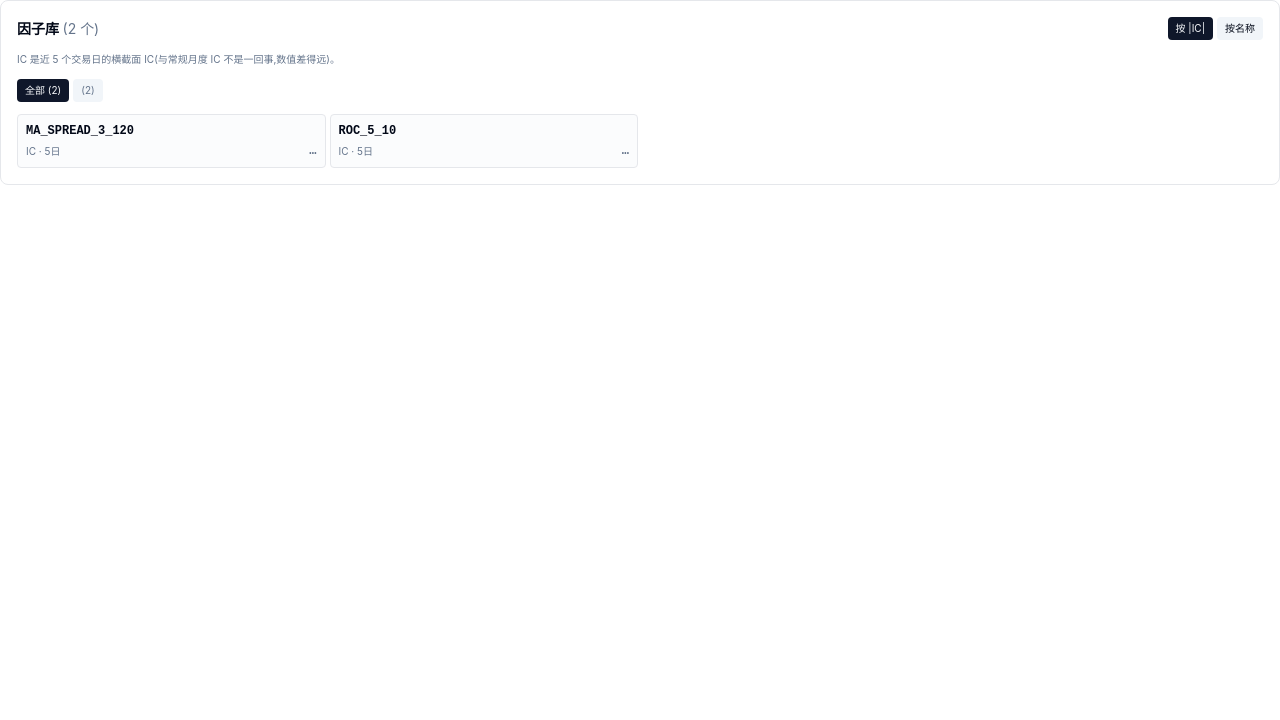
Test case: 因子 IC 详情取不到时 › 后端回的不是可解析的 JSON 时,也要说清,而不是空着
The image size is (1280, 720).
What coordinates should you click on to do the following:
click the text "MA_SPREAD_3_120"
I would click on:
 (80, 131)
Its box is [26,123,134,139].
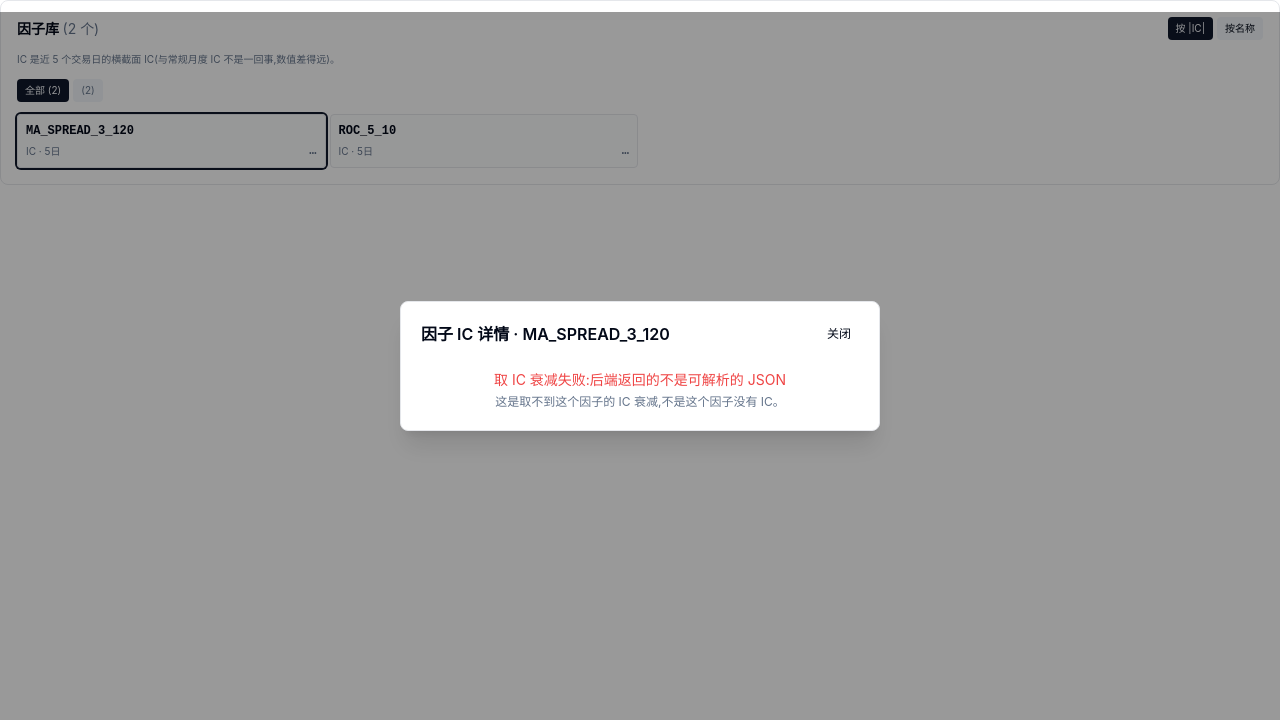
Now the text "取 IC 衰减失败:后端返回的不是可解析的 JSON" is shown, box [494,371,786,388]
